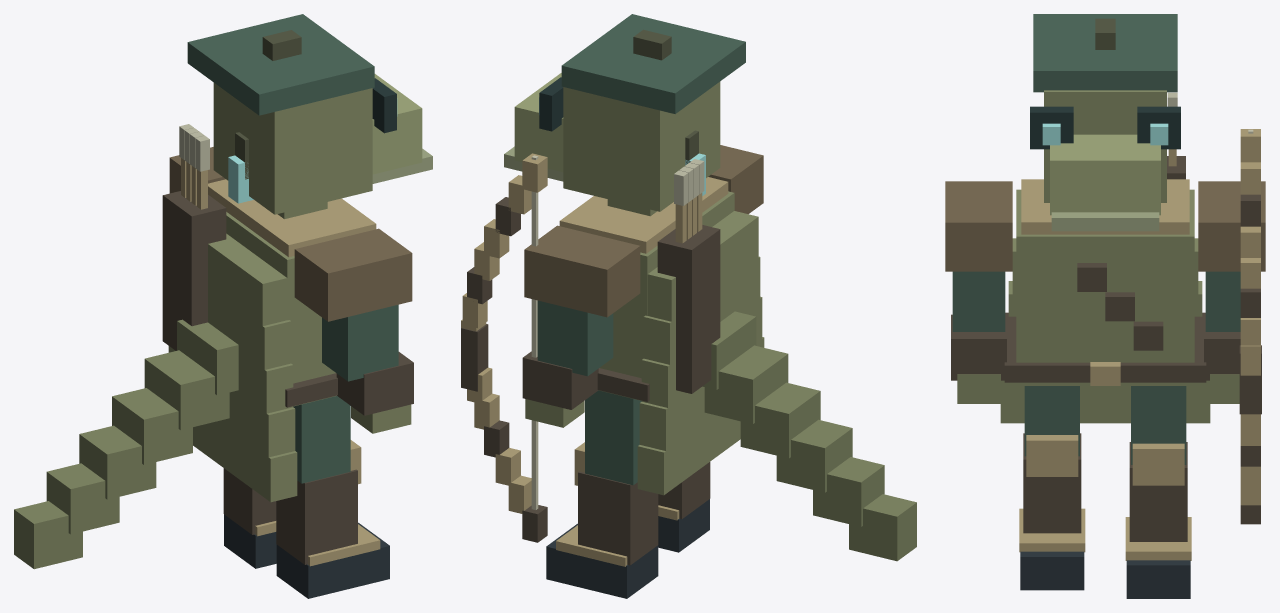
Rendered from scale-archer.glb.
The picture shows the model from 3 angles, left to right: view 1: azimuth 30°, elevation 25°; view 2: azimuth 150°, elevation 25°; view 3: azimuth 270°, elevation 25°; orthographic projection. The views are drawn at different scales.
Parts seen in each view (by area): view 1: Tail, Cloak, Head, Boots, Hood, Shoulders, Quiver, Collar, Sleeves, Legs, Torso, Bracers (+9 smaller); view 2: Tail, Cloak, Head, Boots, Hood, Shoulders, BowLimbs, Quiver, Legs, Sleeves, Collar, Torso (+11 smaller); view 3: Torso, Boots, Hood, Shoulders, Snout, BowLimbs, Legs, Sleeves, Cloak, Belt, Head, Kneeguards (+11 smaller).
Boxes of the visible parts, x1,y1,x2,y2 form: Tail: [14, 319, 238, 569]; Cloak: [168, 233, 297, 502]; Head: [213, 83, 372, 214]; Boots: [223, 468, 389, 598]; Hood: [187, 14, 374, 115]; Shoulders: [169, 147, 412, 321]; Quiver: [162, 191, 226, 350]; Collar: [208, 179, 376, 257]; Sleeves: [322, 304, 398, 381]; Legs: [293, 396, 350, 483]; Torso: [226, 212, 336, 406]; Bracers: [336, 352, 413, 415]; Tail: [702, 311, 916, 561]; Cloak: [637, 211, 764, 495]; Head: [563, 81, 720, 211]; Boots: [546, 462, 710, 598]; Hood: [561, 14, 745, 113]; Shoulders: [524, 145, 763, 317]; BowLimbs: [461, 153, 547, 542]; Quiver: [657, 225, 720, 393]; Legs: [585, 390, 641, 485]; Sleeves: [537, 300, 613, 376]; Collar: [559, 177, 728, 253]; Torso: [599, 191, 734, 400]; Torso: [1016, 189, 1194, 385]; Boots: [1020, 433, 1190, 598]; Hood: [1033, 14, 1177, 92]; Shoulders: [945, 181, 1265, 271]; Snout: [1050, 134, 1160, 215]; BowLimbs: [1240, 129, 1260, 524]; Legs: [1024, 386, 1186, 464]; Sleeves: [952, 271, 1240, 331]; Cloak: [1000, 238, 1210, 423]; Belt: [1004, 312, 1206, 382]; Head: [1044, 90, 1166, 202]; Kneeguards: [1026, 435, 1184, 485].
Size of the model in its own units: 6.62 by 8.87 by 4.76.
